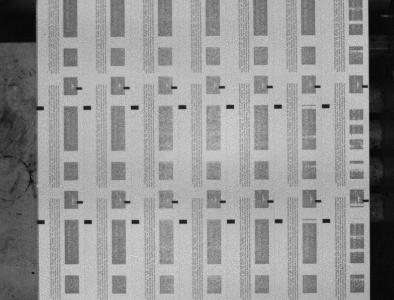qblock: (131, 219, 140, 224), (179, 219, 188, 224), (274, 104, 282, 109), (37, 219, 45, 224), (178, 105, 187, 109), (84, 220, 92, 224), (226, 105, 234, 109), (131, 105, 139, 109), (83, 106, 91, 110), (275, 219, 283, 223), (322, 104, 330, 108), (227, 219, 235, 223), (323, 219, 331, 223), (36, 106, 44, 110)
smallqblock: (219, 85, 226, 89), (124, 200, 131, 203), (172, 200, 179, 203), (171, 86, 178, 89), (363, 199, 370, 202), (315, 199, 322, 202), (220, 200, 226, 203), (124, 86, 130, 89), (77, 201, 83, 204), (76, 87, 82, 90), (267, 85, 273, 88), (268, 200, 274, 203), (315, 85, 321, 88), (363, 85, 369, 88)
